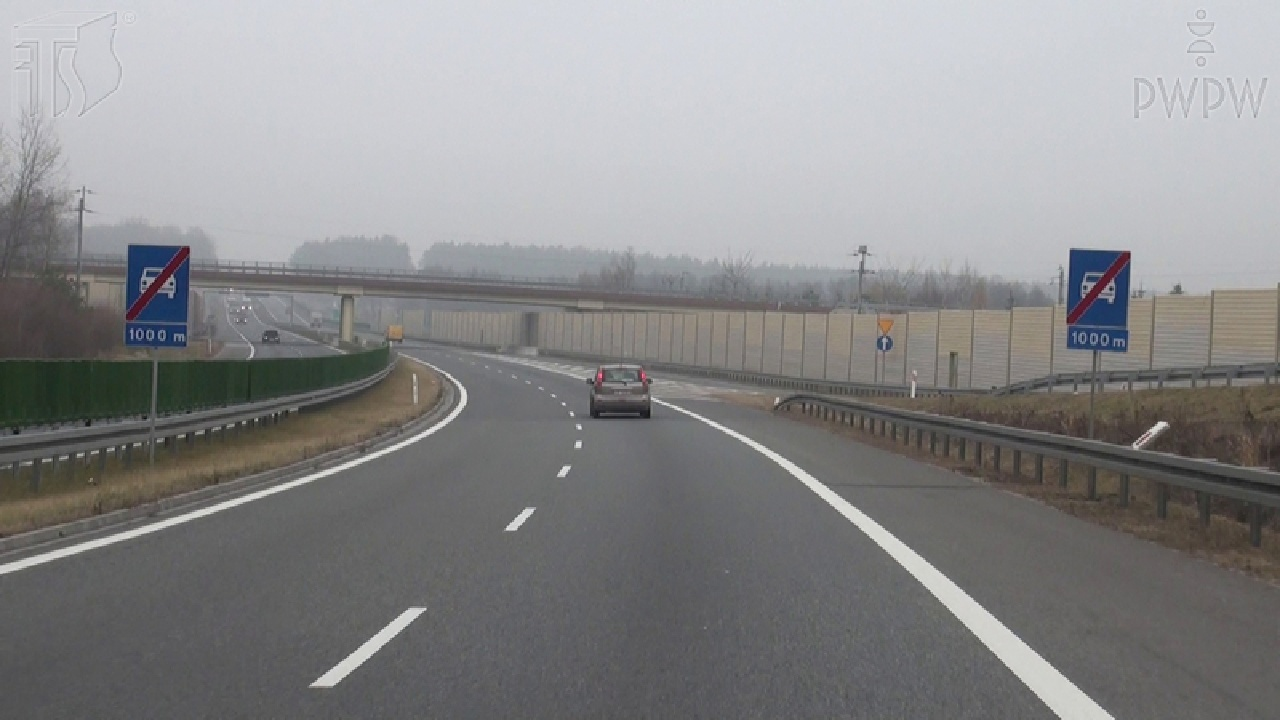A7: (877, 319, 894, 335)
C5: (876, 335, 893, 352)
D8: (126, 244, 189, 324), (1069, 248, 1129, 326)
